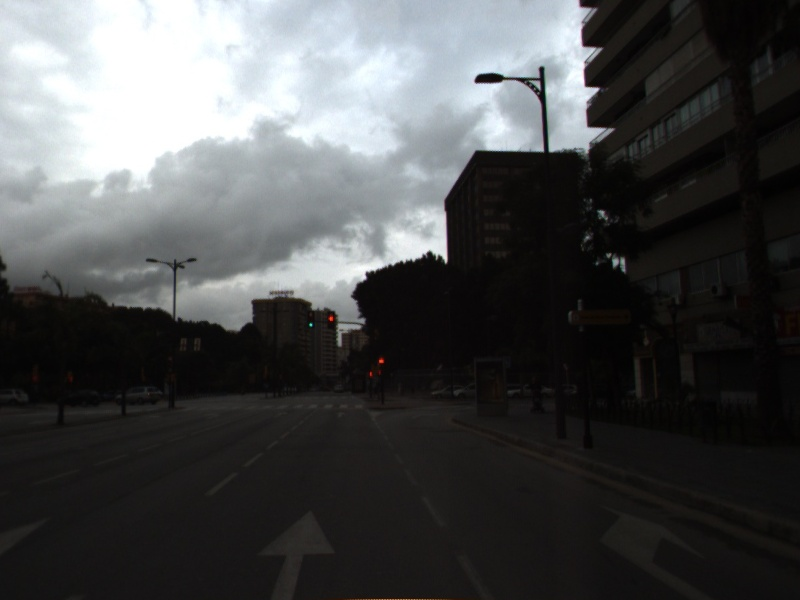RIGHT: (597, 500, 710, 600)
STRAIGHT: (252, 505, 340, 600)
